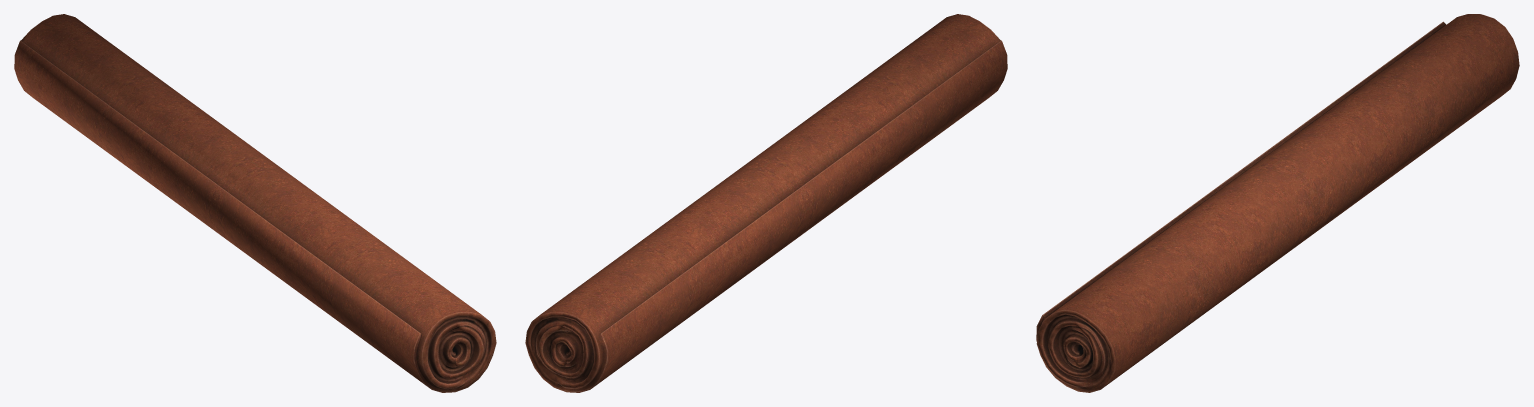
Rendered from carpet_roll.dae.
3 renders of one model, left to right at view 1: azimuth 30°, elevation 25°; view 2: azimuth 150°, elevation 25°; view 3: azimuth 330°, elevation 25°, orthographic.
Visible parts, largest first — view 1: polySurface6; view 2: polySurface6; view 3: polySurface6.
Boxes of the visible parts, <box> form: polySurface6: <box>14,14,496,392</box>; polySurface6: <box>525,14,1007,392</box>; polySurface6: <box>1036,14,1519,392</box>.
Bounding box in the file's own units: 0.1752 × 0.1701 × 1.53.
1 material, 1 textured.
